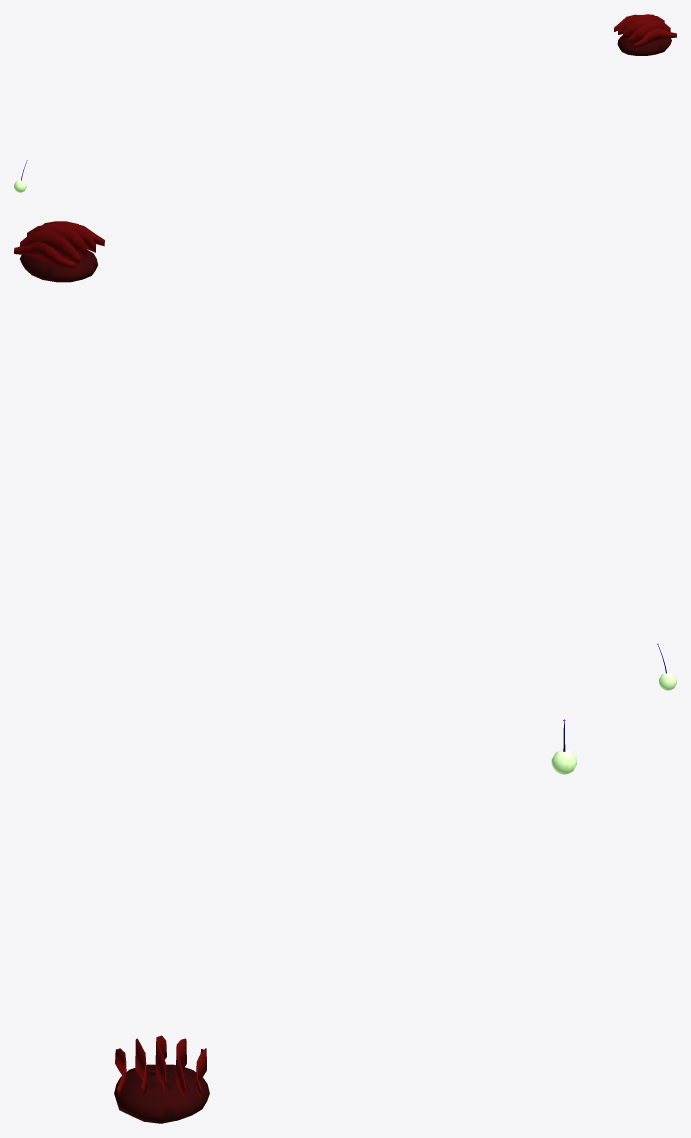
File: bubble.glb
The picture shows the model from 3 angles, top to bottom: view 1: azimuth 30°, elevation 25°; view 2: azimuth 150°, elevation 25°; view 3: azimuth 270°, elevation 25°; orthographic projection. The views are drawn at different scales.
Parts seen in each view (by area): view 1: Body; view 2: Body; view 3: Body.
Boxes of the visible parts, bbox=[...] form: Body: bbox=[614, 14, 676, 55]; Body: bbox=[14, 221, 104, 282]; Body: bbox=[114, 1035, 209, 1123].
Size of the model in its own units: 63.45 by 13.24 by 22.96.
4 materials, 4 textured.
